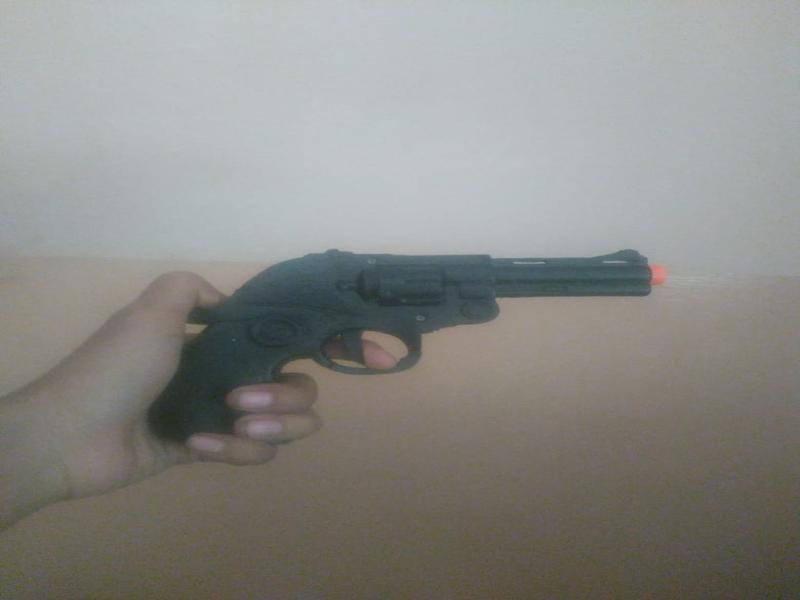gun: (166, 193, 683, 499)
